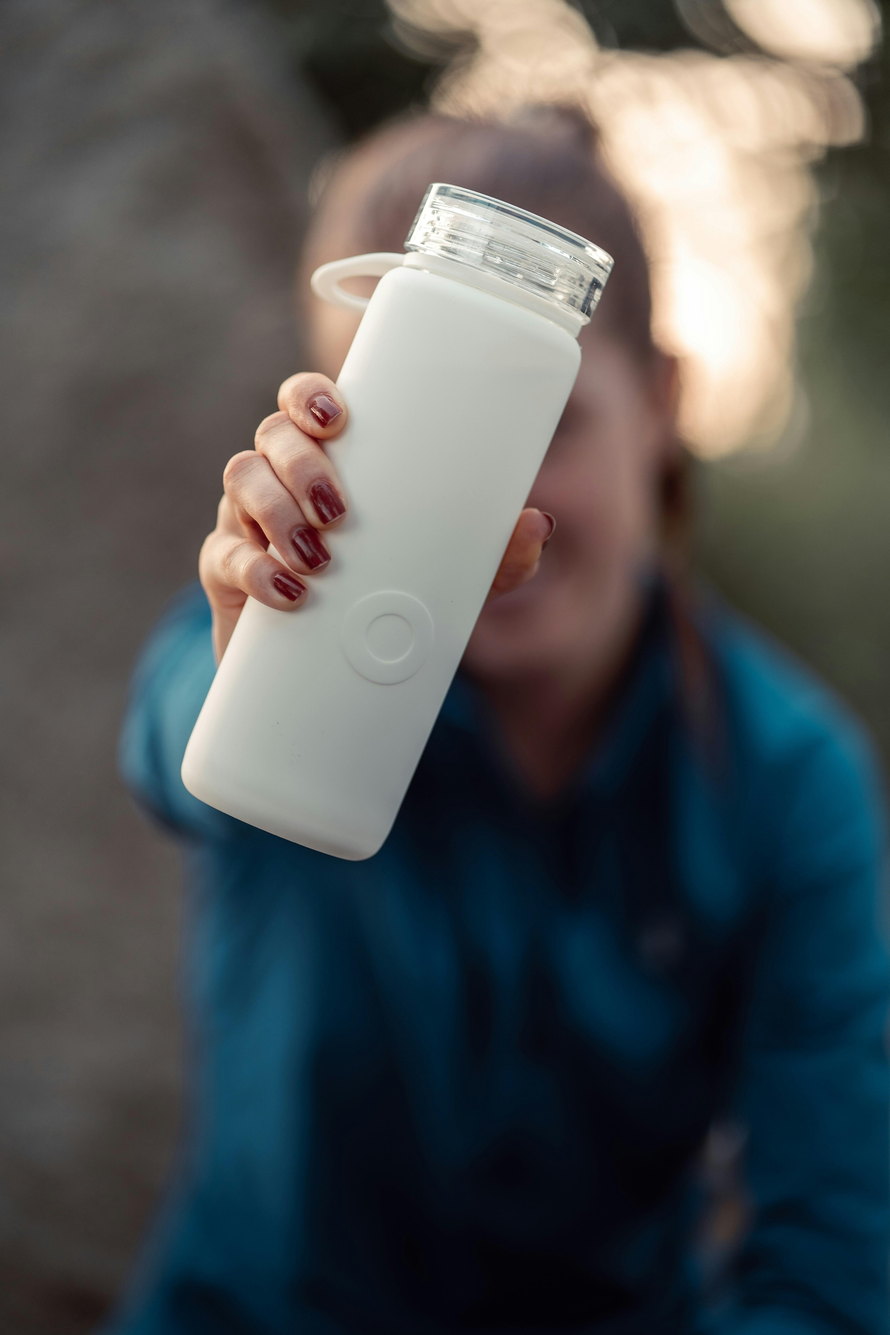Bottle-Detection: (140, 158, 643, 879)
